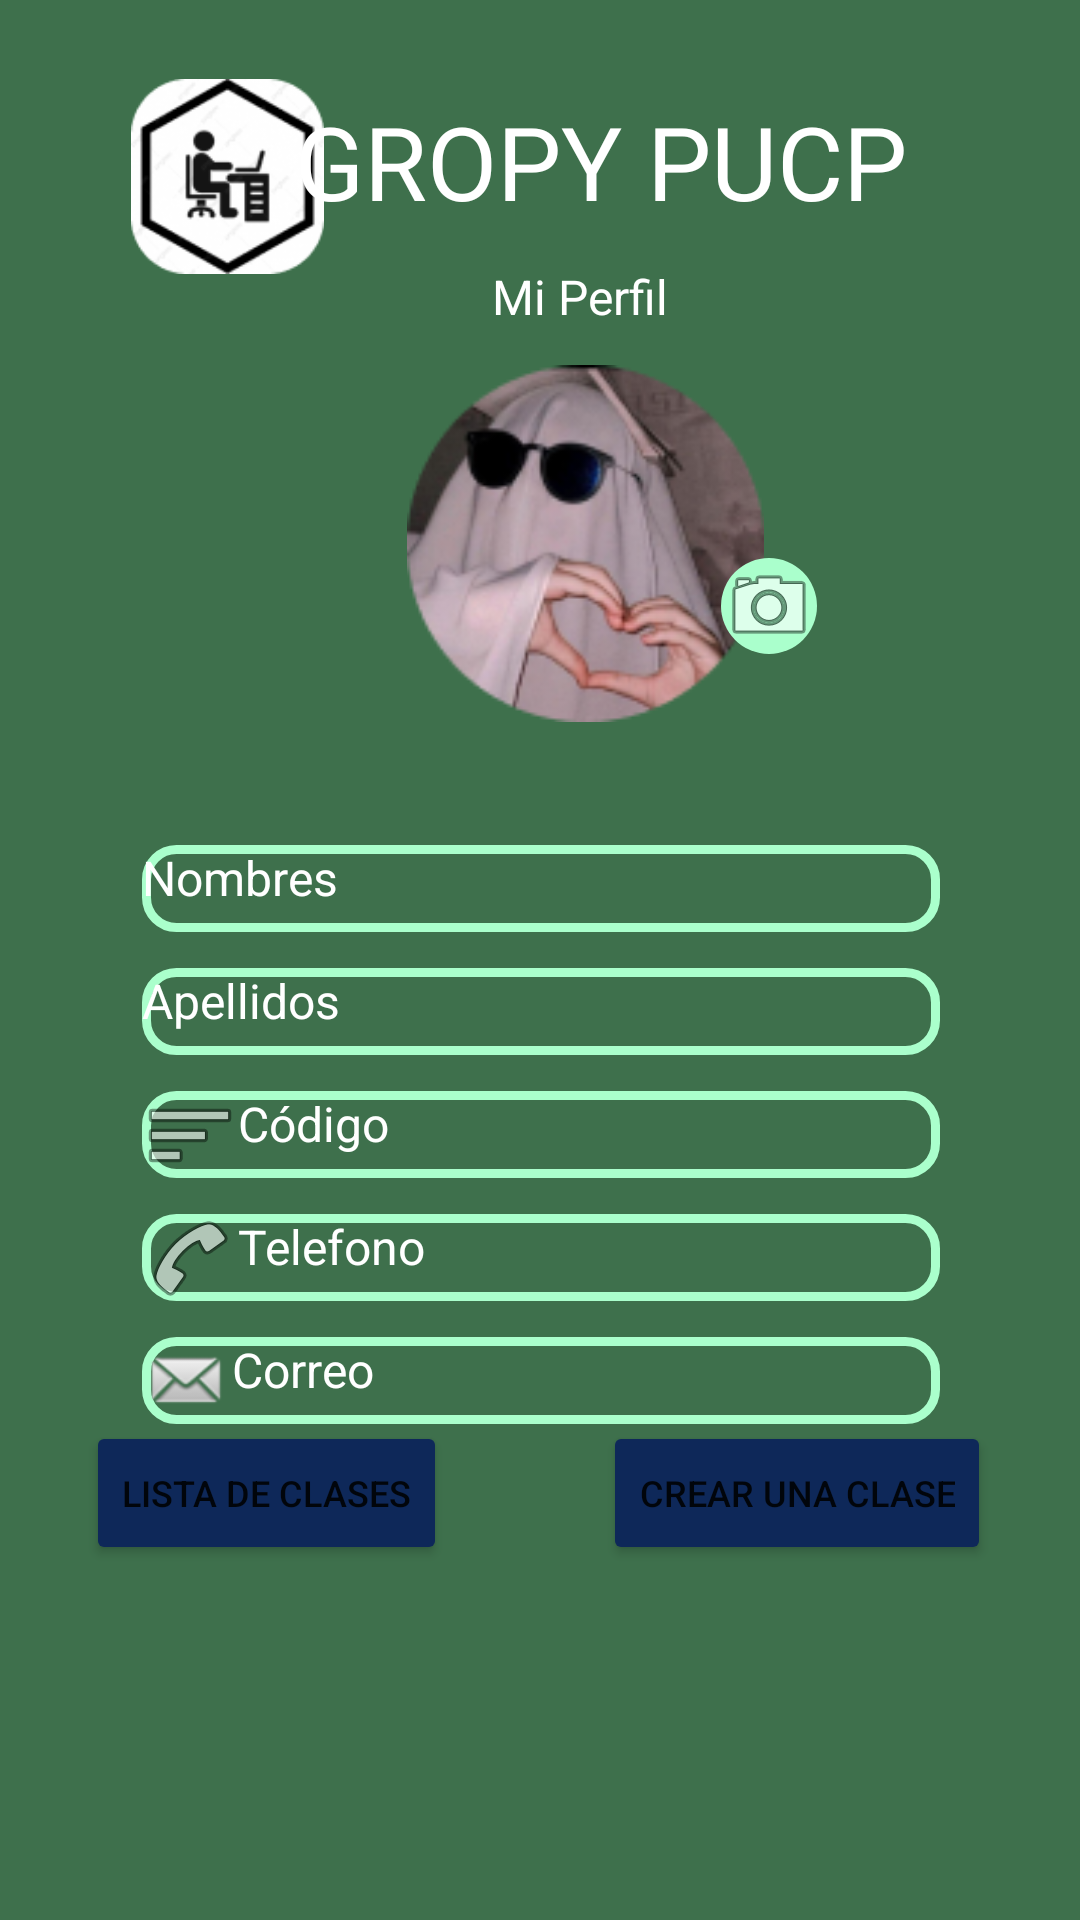

Where to tap for icons on this 1080 × 1920 app screen, as (x,y):
camera: (769,606)
